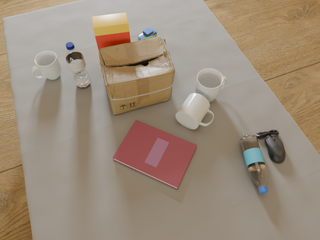book: (113, 120, 197, 189)
bottle: (240, 134, 268, 194), (65, 42, 91, 88)
box: (99, 37, 175, 114), (92, 13, 130, 50)
cup: (176, 93, 214, 129), (195, 68, 228, 103), (32, 51, 61, 80)
mouse: (256, 130, 285, 163)
toy_car: (137, 28, 157, 40)
